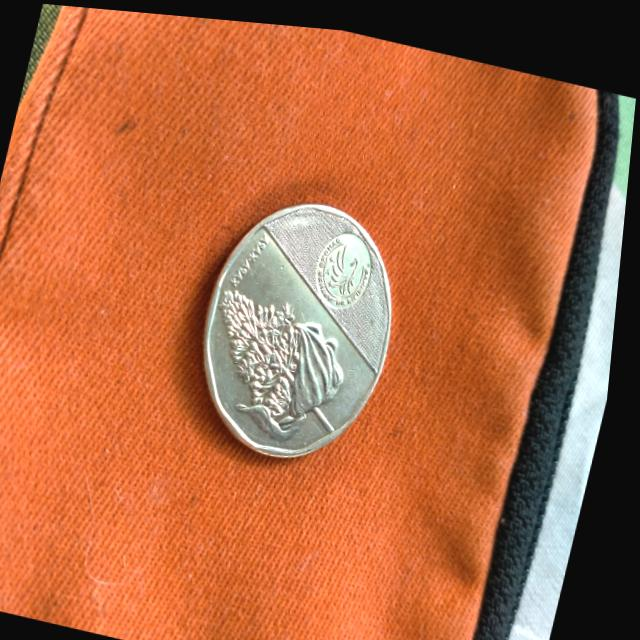10_New_Back: (193, 276, 378, 448)
